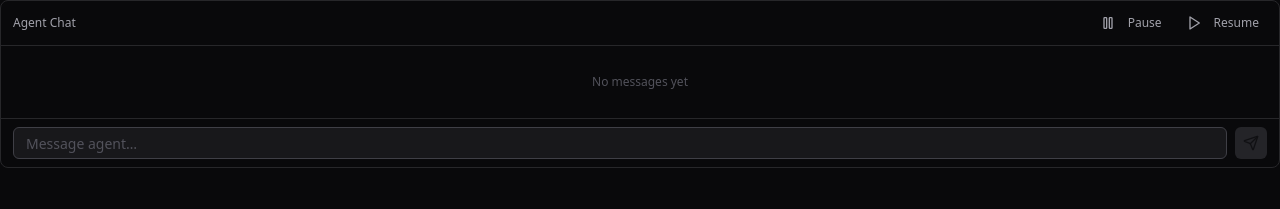
Test case: AgentChat – send button state › send button disabled while mutation is pending
This screenshot has width=1280, height=209.
Type "test" into the field with placeholder "Message agent…" at (620, 143), box [13,127,1227,159]
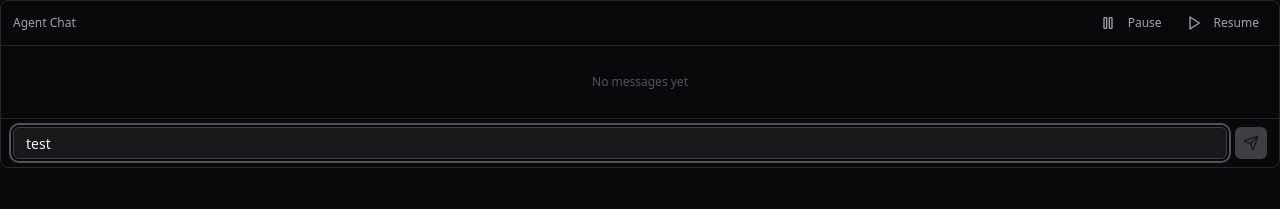
Click the button named "send message" at (1251, 143), box [1235,127,1267,159]
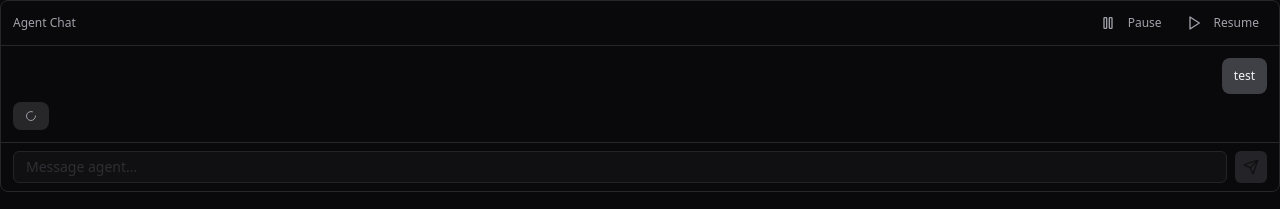
Check: the button named "send message" is disabled, box [1235,150,1267,182]
